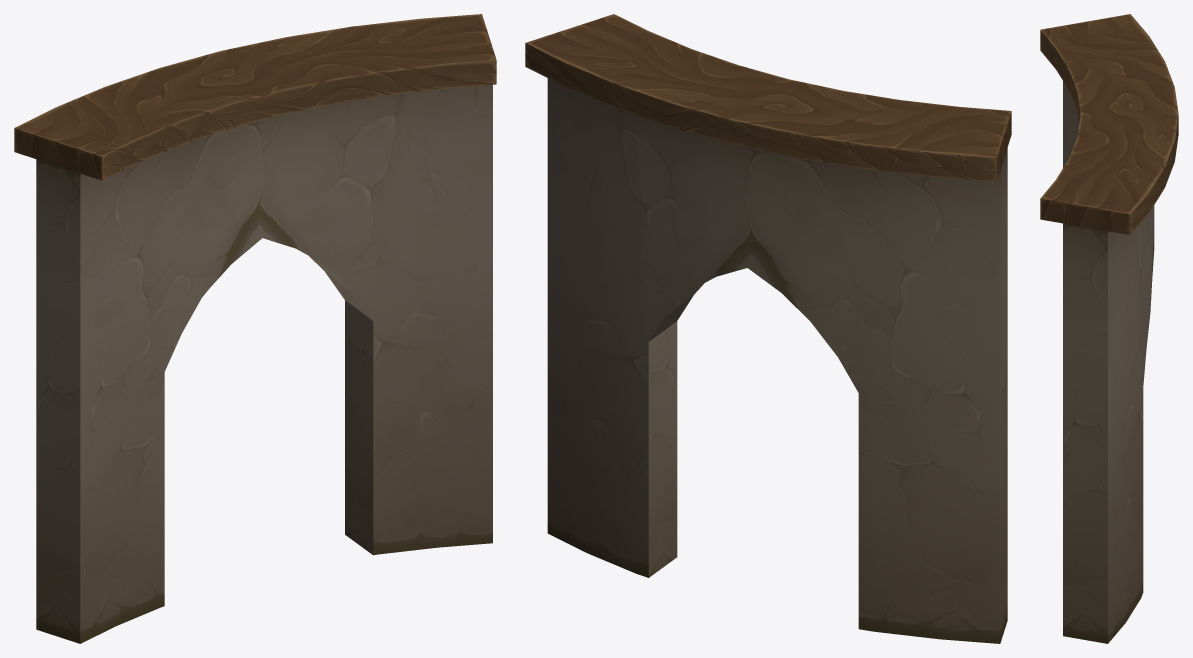
File: Wall_round_4_4.FBX
3 renders of one model, left to right at view 1: azimuth 30°, elevation 25°; view 2: azimuth 150°, elevation 25°; view 3: azimuth 270°, elevation 25°, orthographic. The views are drawn at different scales.
Visible parts, largest first — view 1: Wall_round_4_4; view 2: Wall_round_4_4; view 3: Wall_round_4_4.
Boxes of the visible parts, bbox=[...] form: Wall_round_4_4: bbox=[14, 14, 496, 643]; Wall_round_4_4: bbox=[525, 14, 1011, 643]; Wall_round_4_4: bbox=[1040, 14, 1178, 643].
Size of the model in its own units: 3486 by 3520 by 1017.
